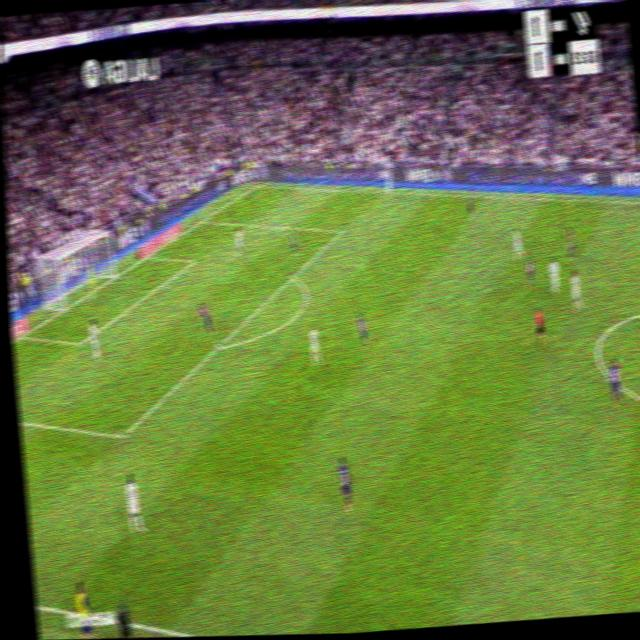bigarea_bottom_inner: (116, 425, 130, 447)
bigarea_top_inner: (337, 225, 346, 237)
bottom_arc_area_intersection: (214, 337, 226, 354)
corner: (252, 181, 261, 190)
smallarea_bottom_inner: (76, 335, 86, 351)
smallarea_top_inner: (191, 257, 197, 265)
top_arc_area_intersection: (289, 269, 298, 283)
